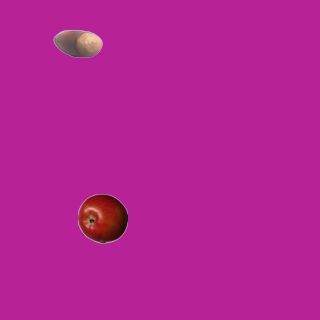Apple Braeburn: (77, 193, 127, 243)
Hazelnut: (52, 18, 102, 68)
